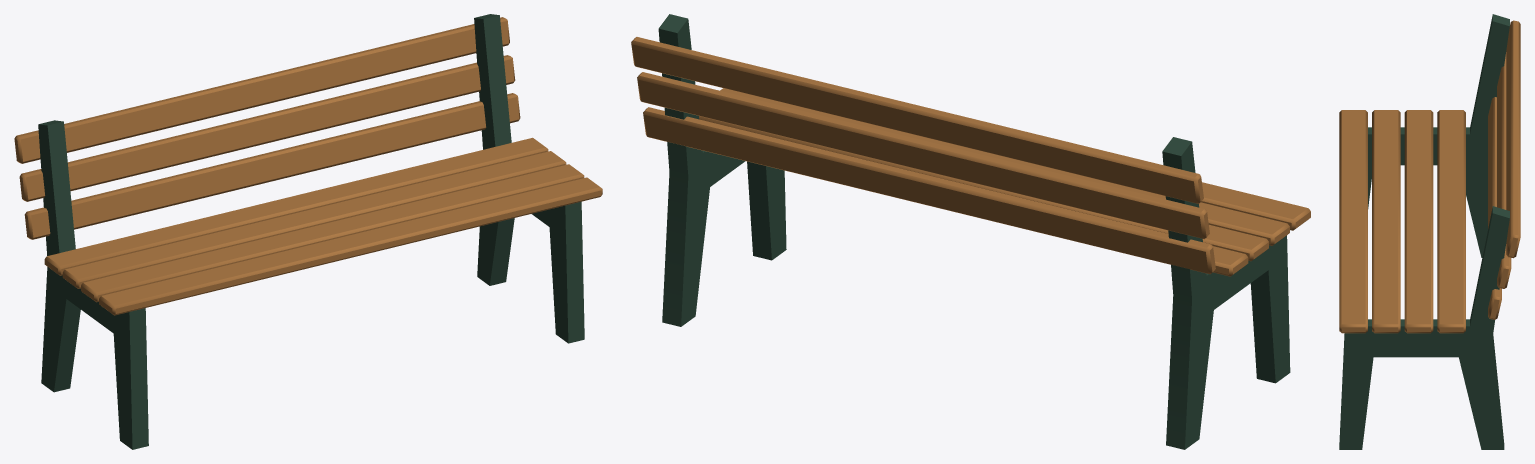
Rendered from bench.glb.
3 views of the same model, side by side, from view 1: azimuth 30°, elevation 25°; view 2: azimuth 150°, elevation 25°; view 3: azimuth 270°, elevation 25° (orthographic). The views are drawn at different scales.
Parts seen in each view (by area): view 1: body; view 2: body; view 3: body.
Part boxes in pixels (bbox=[...]): body: bbox=[14, 14, 602, 449]; body: bbox=[631, 14, 1310, 449]; body: bbox=[1339, 14, 1520, 449].
Bounding box in the file's own units: 1.8 × 0.92 × 0.6375.
